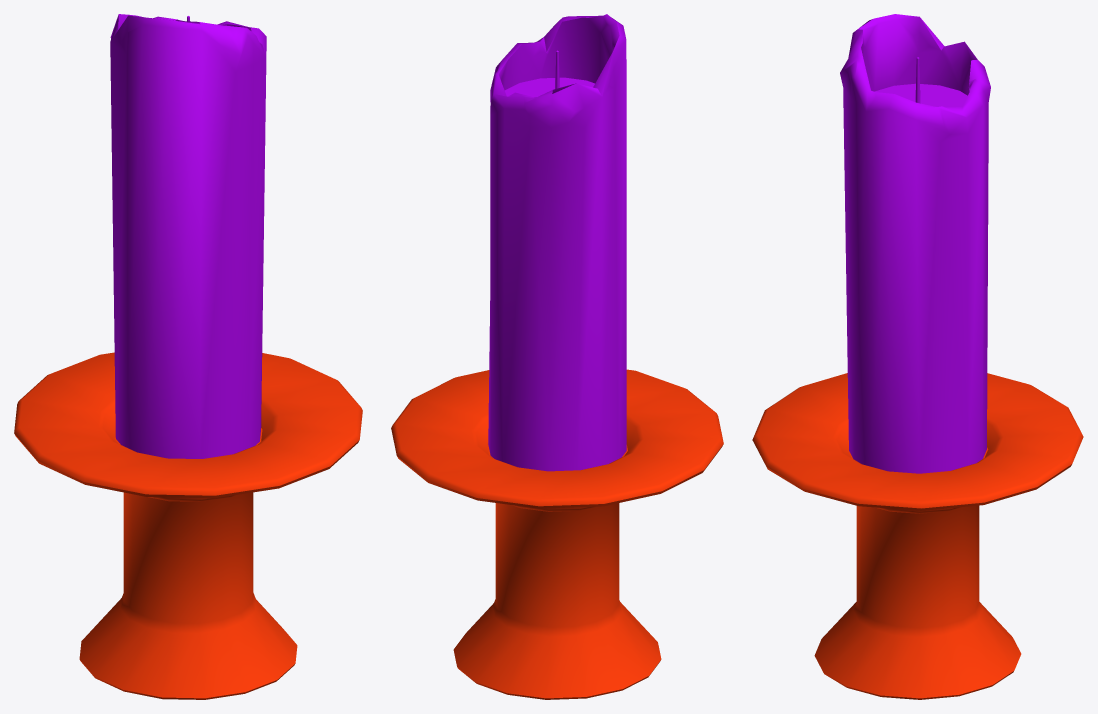
The model's file is Bougie_UVW_1.FBX.
The picture shows the model from 3 angles, left to right: view 1: azimuth 30°, elevation 25°; view 2: azimuth 150°, elevation 25°; view 3: azimuth 270°, elevation 25°; orthographic projection. The views are drawn at different scales.
Visible parts, largest first — view 1: Bougie; view 2: Bougie; view 3: Bougie.
Boxes of the visible parts, x1,y1,x2,y2 form: Bougie: (14, 14, 362, 699); Bougie: (391, 14, 723, 699); Bougie: (752, 14, 1083, 699).
Bounding box in the file's own units: 53.92 × 111 × 53.92.
